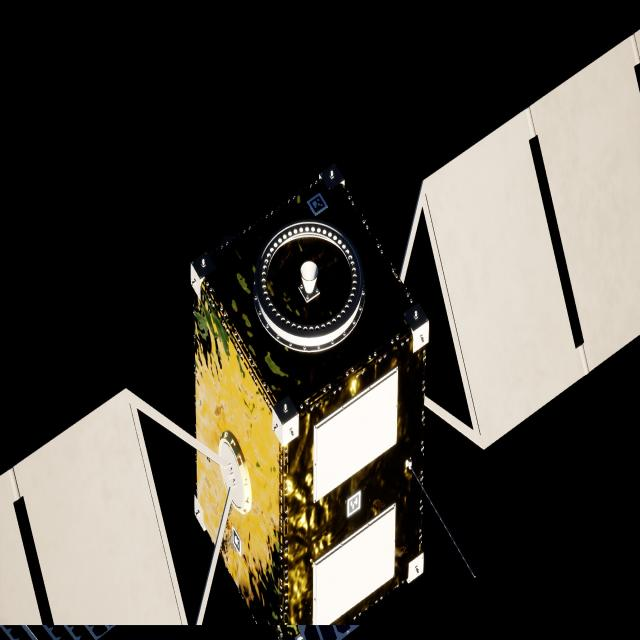medium_debris: (0, 30, 640, 640)
